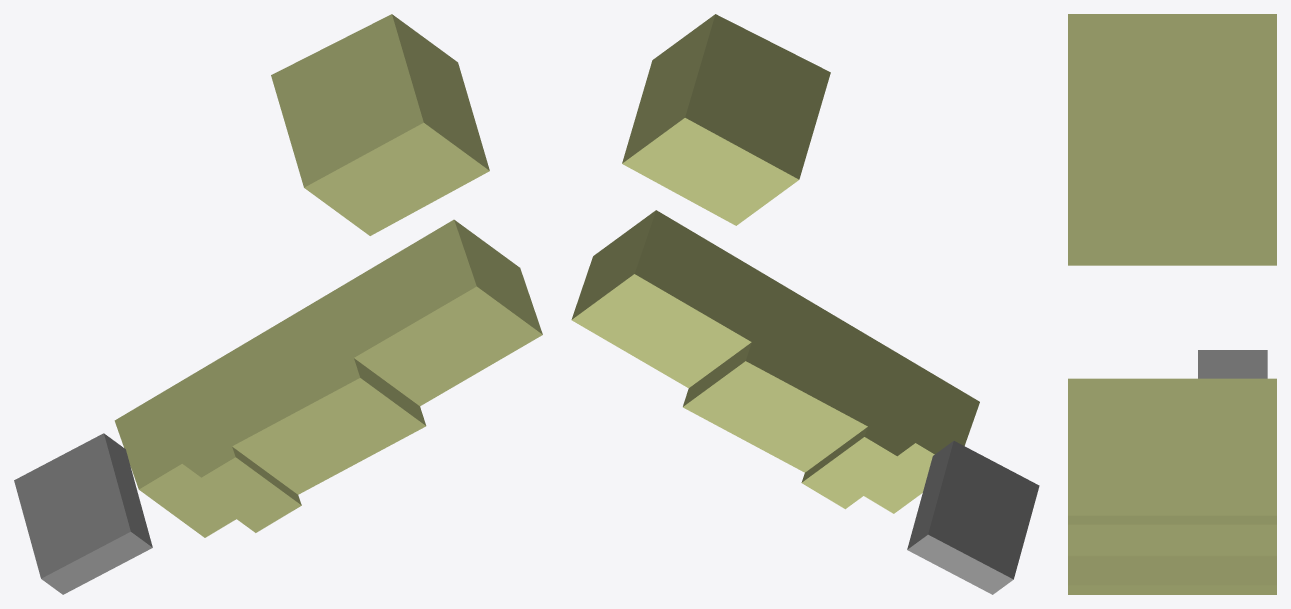
The picture shows the model from 3 angles, left to right: view 1: azimuth 30°, elevation 25°; view 2: azimuth 150°, elevation 25°; view 3: azimuth 270°, elevation 25°; orthographic projection. The views are drawn at different scales.
Visible parts, largest first — view 1: 0_1_0_0_1_0_2_1_0; view 2: 0_1_0_0_1_0_2_1_0; view 3: 0_1_0_0_1_0_2_1_0.
Boxes of the visible parts, x1,y1,x2,y2 form: 0_1_0_0_1_0_2_1_0: (14, 14, 542, 594); 0_1_0_0_1_0_2_1_0: (571, 14, 1039, 594); 0_1_0_0_1_0_2_1_0: (1068, 14, 1276, 594).
Bounding box in the file's own units: 36.57 × 35.74 × 9.
